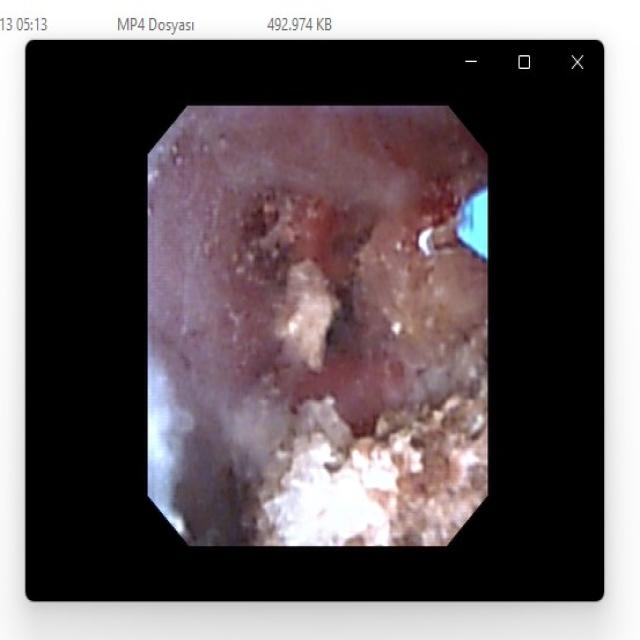fiber: (460, 191, 486, 257)
stone: (253, 214, 482, 540), (280, 262, 337, 372)
